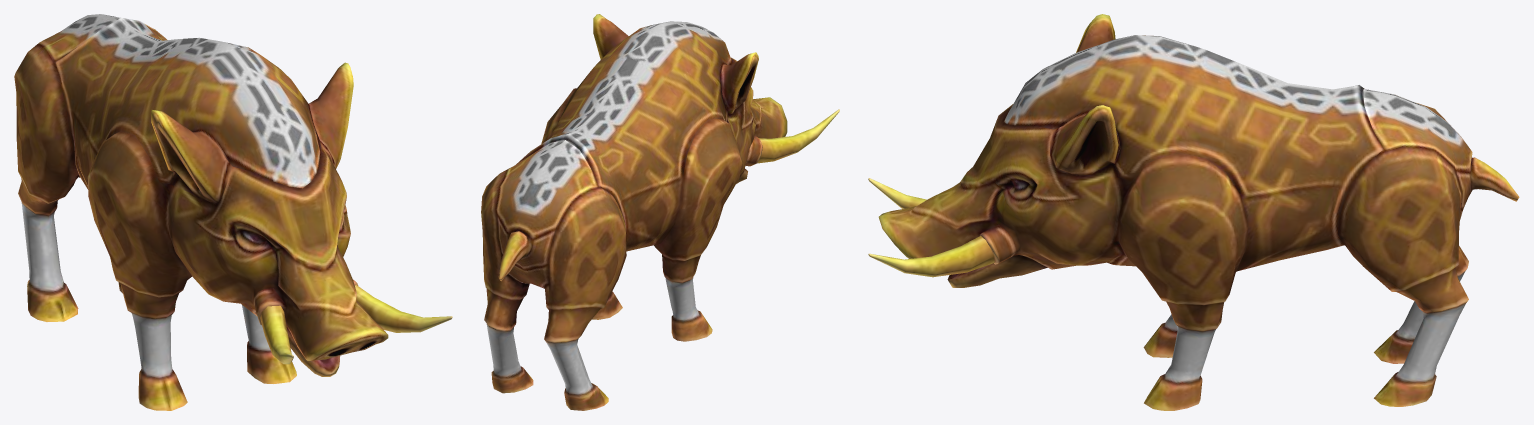
File: 73-battleboar.glb
3 renders of one model, left to right at view 1: azimuth 30°, elevation 25°; view 2: azimuth 150°, elevation 25°; view 3: azimuth 270°, elevation 25°, orthographic. The views are drawn at different scales.
Bounding box in the file's own units: 1.56 × 2.46 × 4.26.
Materials: 1 (1 with a texture image).
